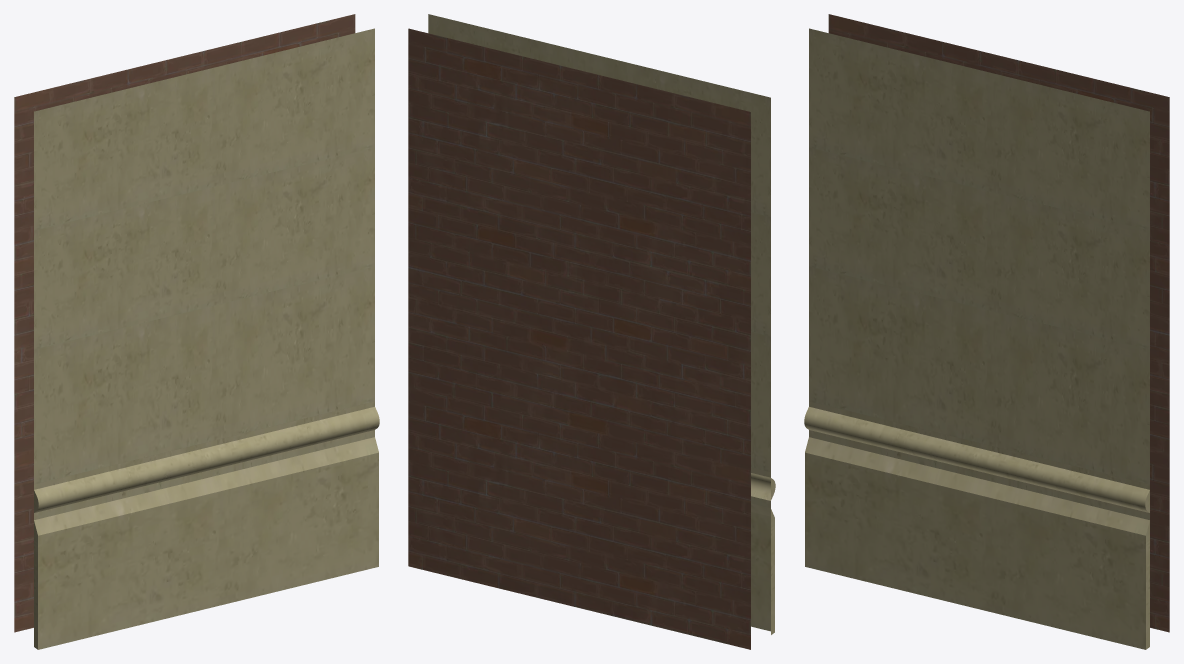
File: Trim_FirstFloor_Wall.glb
3 renders of one model, left to right at view 1: azimuth 30°, elevation 25°; view 2: azimuth 150°, elevation 25°; view 3: azimuth 330°, elevation 25°, orthographic.
Parts seen in each view (by area): view 1: Trim_FirstFloor_Wall; view 2: Trim_FirstFloor_Wall; view 3: Trim_FirstFloor_Wall.
Boxes of the visible parts, <box> form: Trim_FirstFloor_Wall: <box>14,14,379,649</box>; Trim_FirstFloor_Wall: <box>408,14,775,649</box>; Trim_FirstFloor_Wall: <box>804,14,1169,649</box>.
Size of the model in its own units: 2 by 3 by 0.2478.
Materials: 2 (2 with a texture image).
